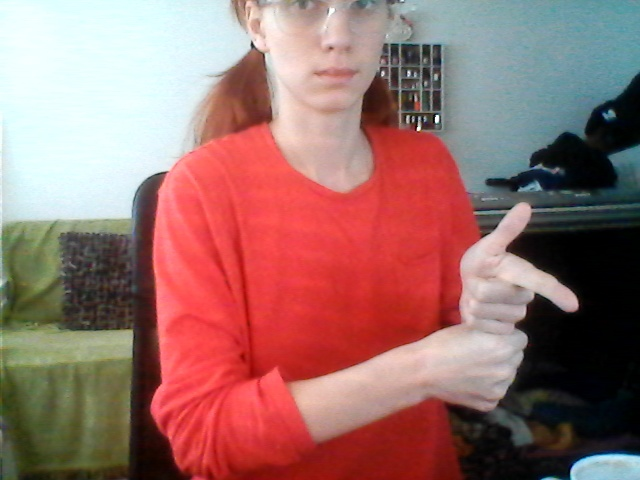kamera: (431, 197, 583, 432)
